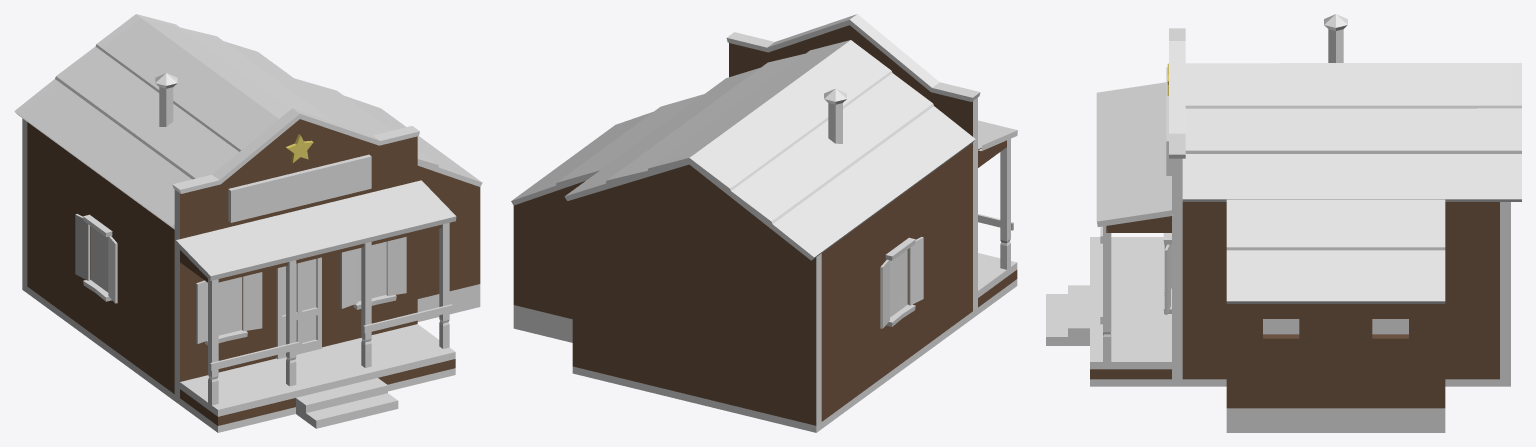
Rendered from western-house-scheriff.fbx.
3 views of the same model, side by side, from view 1: azimuth 30°, elevation 25°; view 2: azimuth 150°, elevation 25°; view 3: azimuth 270°, elevation 25° (orthographic). The views are drawn at different scales.
Visible parts, largest first — view 1: western-house-scheriff, western-house-scheriff-jail; view 2: western-house-scheriff, western-house-scheriff-jail; view 3: western-house-scheriff, western-house-scheriff-jail.
Boxes of the visible parts, box(x1,y1,x2,y2) form: western-house-scheriff: box(14, 14, 456, 432); western-house-scheriff-jail: box(294, 78, 482, 321); western-house-scheriff: box(564, 14, 1017, 432); western-house-scheriff-jail: box(511, 94, 703, 342); western-house-scheriff: box(1046, 14, 1521, 386); western-house-scheriff-jail: box(1226, 199, 1445, 432).
Bounding box in the file's own units: 7.61 × 5.71 × 8.7.
